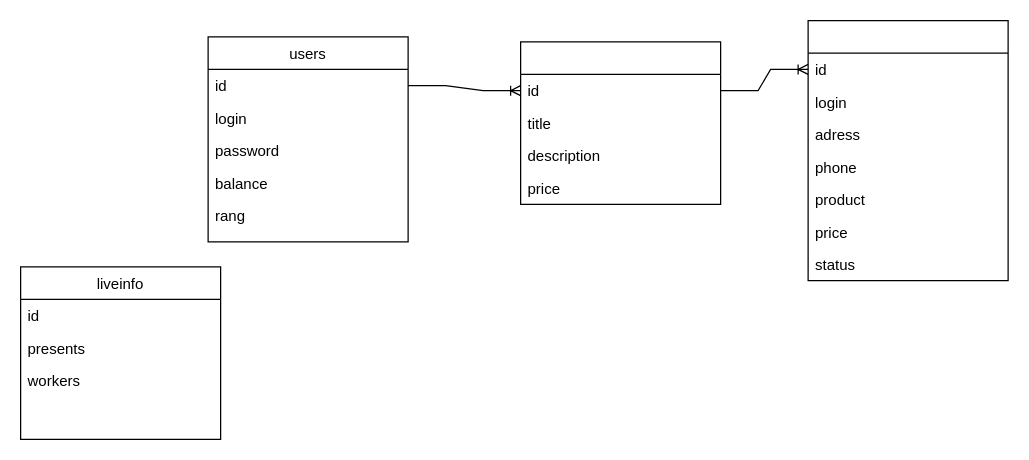
The diagram is 1029 pixels wide and 460 high, and some of its shapes have lost their labels. Here are the shapes that lost their labels. From the top down, the box of each, then its label:
(519, 41, 721, 204): products
(807, 19, 1008, 281): orders
